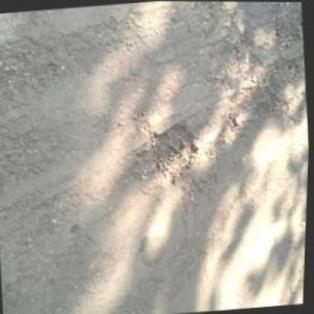Hueco: (133, 119, 200, 190)
